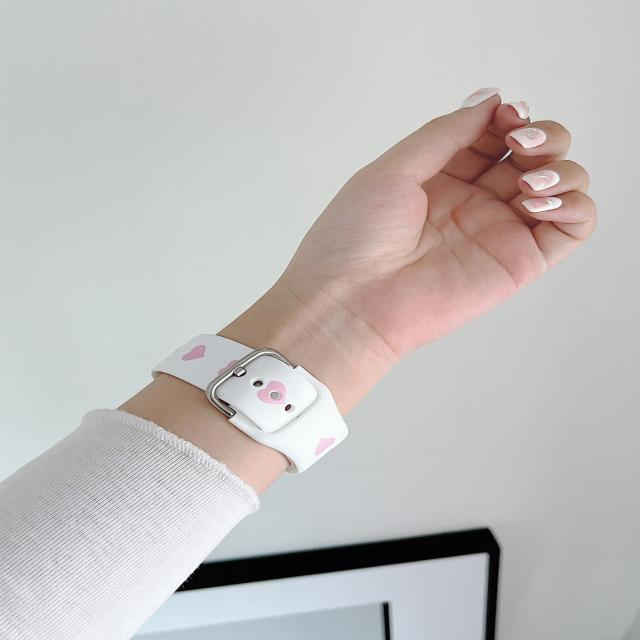bracelet: (127, 296, 436, 495)
